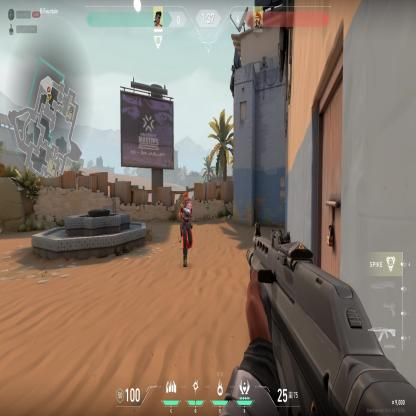enemy: (178, 192, 194, 268)
